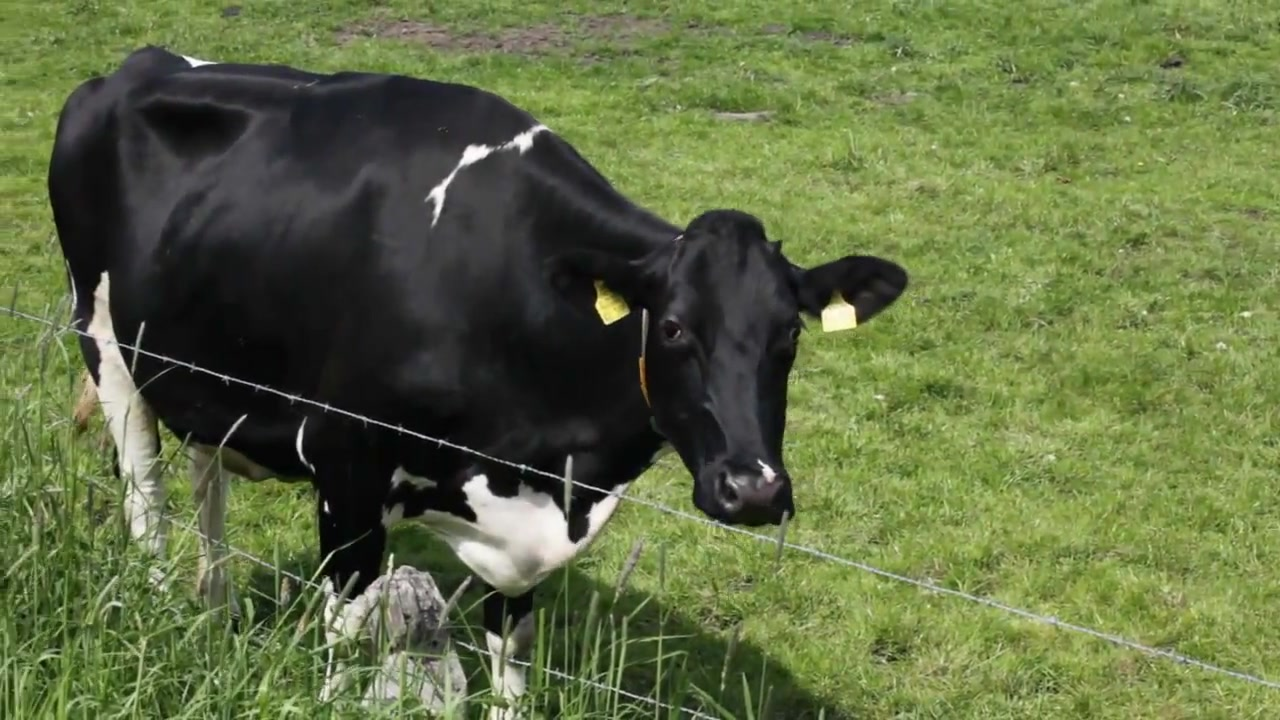cow: (51, 44, 912, 700)
